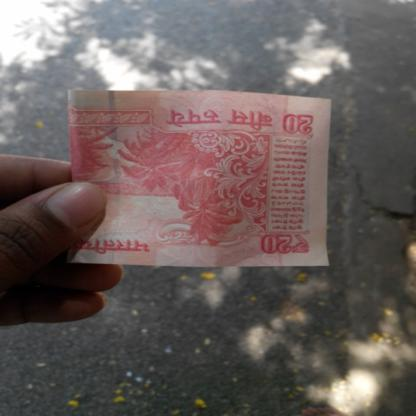Old20Back: (72, 92, 326, 266)
